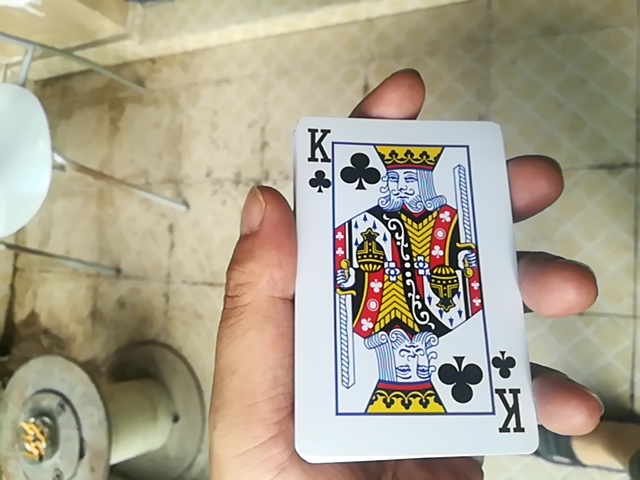mh k: (297, 113, 532, 464)
